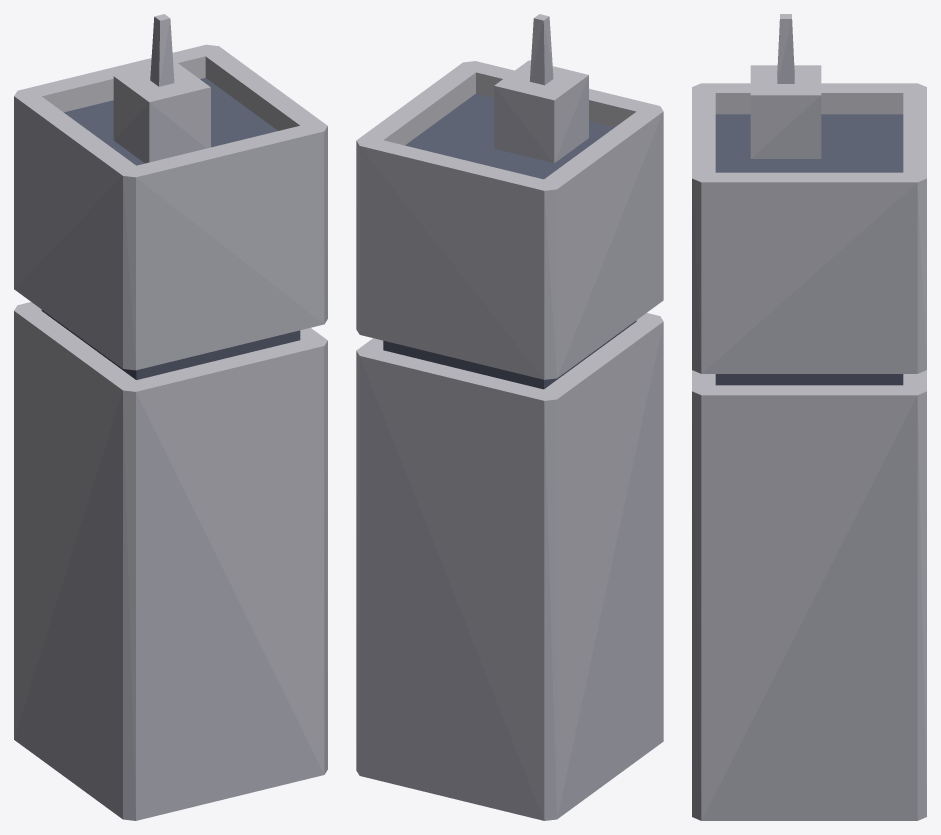
File: block_d.glb
3 views of the same model, side by side, from view 1: azimuth 30°, elevation 25°; view 2: azimuth 150°, elevation 25°; view 3: azimuth 270°, elevation 25° (orthographic). The views are drawn at different scales.
Visible parts, largest first — view 1: block_d; view 2: block_d; view 3: block_d.
Boxes of the visible parts, x1,y1,x2,y2 form: block_d: (14,14,327,820); block_d: (356,14,663,820); block_d: (692,14,926,820).
Bounding box in the file's own units: 0.5 × 1.75 × 0.5.
